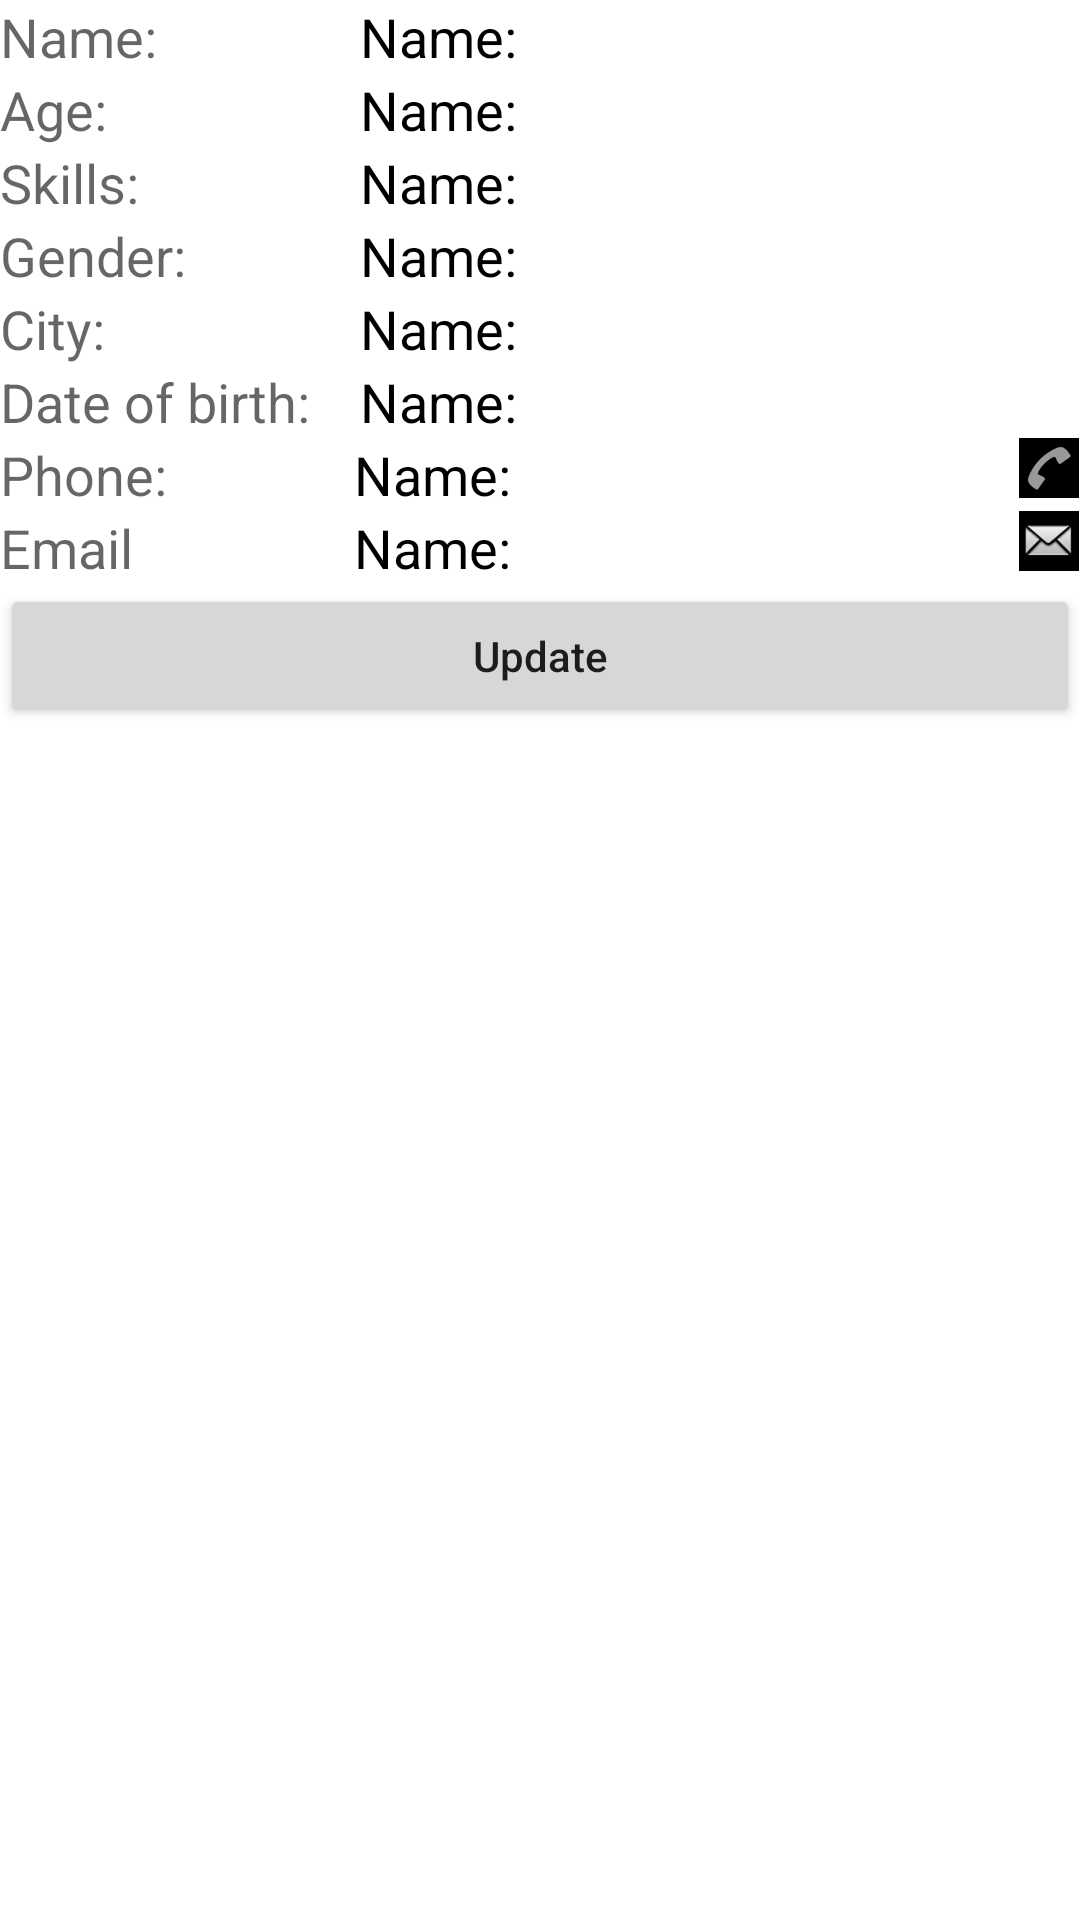

Icon click points for this 1080 × 1920 phone screenshot, format (x=x, y=y):
call: (x=1049, y=468)
sym action email: (x=1049, y=541)
